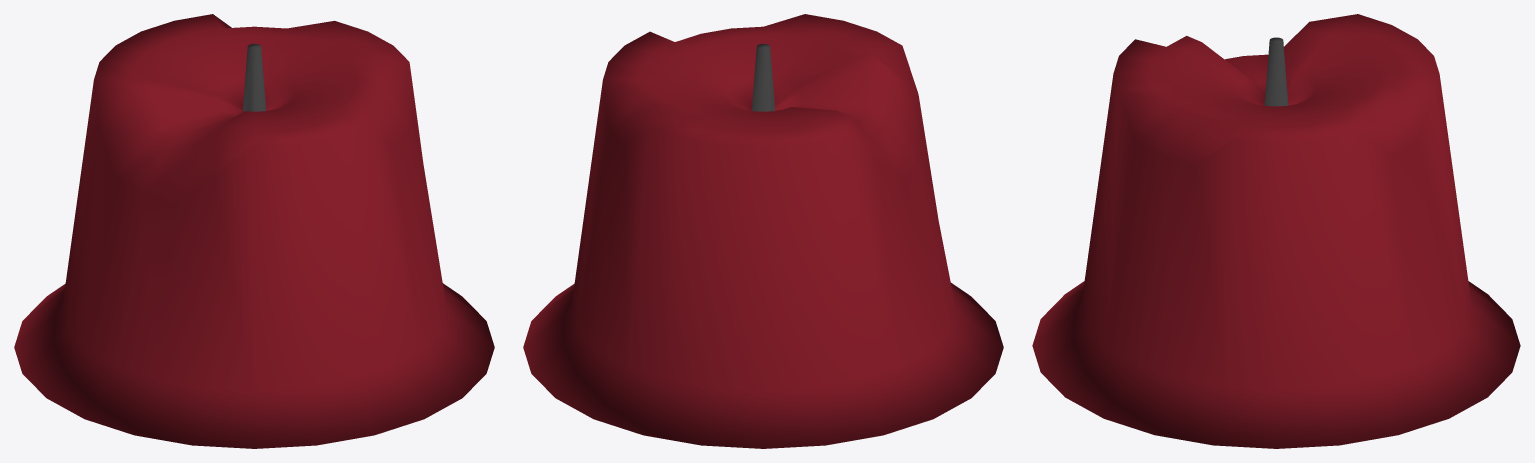
Rendered from candleShort.fbx.
3 renders of one model, left to right at view 1: azimuth 30°, elevation 25°; view 2: azimuth 150°, elevation 25°; view 3: azimuth 270°, elevation 25°, orthographic.
Visible parts, largest first — view 1: Candle Short; view 2: Candle Short; view 3: Candle Short.
Part boxes in pixels (box(x1,y1,x2,y2)): Candle Short: box(14, 14, 494, 448); Candle Short: box(523, 14, 1003, 448); Candle Short: box(1032, 14, 1520, 448).
Size of the model in its own units: 13.36 by 13.36 by 9.22.
